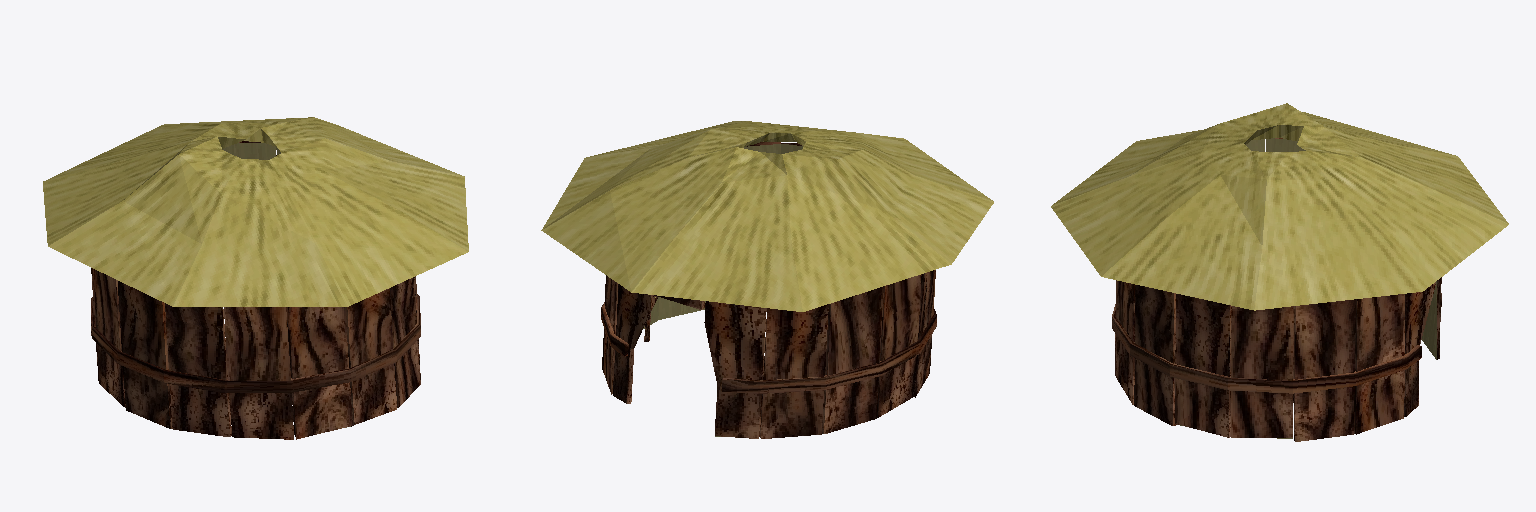
The picture shows the model from 3 angles: view 1: azimuth 30°, elevation 25°; view 2: azimuth 150°, elevation 25°; view 3: azimuth 270°, elevation 25°; orthographic projection.
Parts seen in each view (by area): view 1: Cube_Cube.002; view 2: Cube_Cube.002; view 3: Cube_Cube.002.
Boxes of the visible parts, <box> form: Cube_Cube.002: <box>43,117,468,439</box>; Cube_Cube.002: <box>541,121,993,438</box>; Cube_Cube.002: <box>1051,103,1508,441</box>.
Bounding box in the file's own units: 7.71 × 4.4 × 7.82.
Materials: 4 (1 with a texture image).